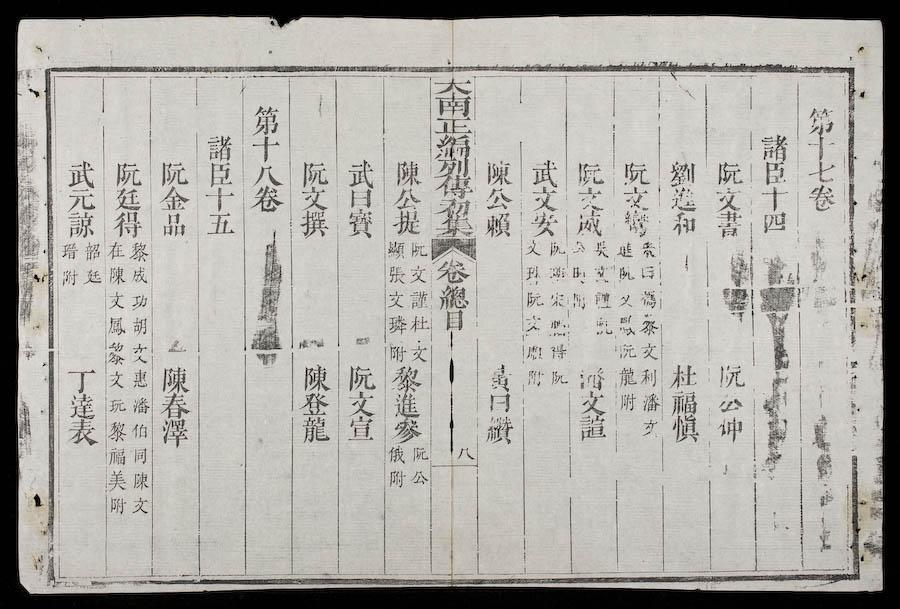c: (250, 102, 283, 136), (433, 174, 474, 199), (805, 105, 837, 136), (64, 157, 97, 187), (435, 258, 471, 285), (345, 157, 376, 188), (345, 208, 376, 239), (298, 415, 331, 444), (110, 210, 144, 238), (63, 210, 97, 238), (433, 94, 472, 118), (159, 364, 191, 393), (111, 159, 144, 187), (250, 186, 284, 213), (300, 362, 330, 392), (484, 415, 514, 445), (159, 418, 190, 447), (204, 132, 235, 161), (433, 135, 472, 158), (434, 198, 473, 221), (574, 159, 606, 187), (298, 210, 330, 238), (806, 184, 838, 212), (390, 365, 423, 392), (65, 418, 98, 445), (576, 415, 609, 442), (436, 284, 470, 310), (434, 215, 476, 236), (392, 158, 422, 187), (345, 363, 376, 391), (158, 158, 189, 186), (669, 415, 700, 443), (529, 158, 560, 186), (759, 133, 790, 161), (391, 209, 423, 236), (158, 393, 191, 419), (299, 159, 329, 187), (668, 362, 698, 390), (713, 159, 744, 186), (715, 362, 746, 389), (482, 212, 513, 239), (620, 159, 651, 186), (158, 186, 190, 212), (204, 211, 236, 237), (250, 135, 282, 161), (65, 366, 97, 392), (65, 392, 97, 418), (64, 188, 98, 212), (484, 158, 513, 186), (529, 211, 559, 238), (667, 159, 697, 186), (529, 186, 560, 212), (345, 391, 376, 417), (575, 186, 606, 212), (345, 416, 376, 442), (574, 211, 605, 237), (391, 418, 423, 443), (432, 76, 474, 95), (714, 212, 743, 239), (159, 212, 188, 239), (205, 161, 235, 187), (621, 210, 651, 236), (668, 187, 699, 212), (391, 393, 422, 418), (203, 187, 235, 211), (433, 158, 473, 177), (432, 118, 474, 136), (487, 362, 513, 391), (299, 186, 329, 211), (713, 187, 743, 212), (621, 186, 651, 211), (759, 186, 789, 211), (715, 416, 745, 441), (669, 391, 699, 416), (299, 392, 330, 416), (111, 187, 142, 211), (251, 163, 283, 186), (805, 136, 837, 159), (760, 161, 789, 186), (484, 187, 514, 211), (578, 366, 606, 391), (578, 391, 607, 415), (669, 212, 698, 236), (759, 211, 788, 235), (392, 187, 422, 210), (806, 160, 837, 182), (715, 395, 745, 416), (486, 392, 514, 414), (346, 188, 375, 209), (441, 310, 466, 332), (106, 340, 127, 366), (407, 289, 430, 311), (616, 365, 638, 388), (106, 469, 128, 492), (409, 339, 429, 364), (386, 313, 408, 335), (128, 240, 150, 262), (81, 240, 103, 262), (107, 419, 128, 442), (639, 314, 660, 337), (617, 313, 637, 337), (638, 288, 659, 310), (592, 289, 613, 311), (106, 314, 127, 336), (130, 340, 149, 364), (386, 239, 407, 260), (407, 264, 428, 285), (107, 445, 128, 466), (106, 240, 127, 261), (386, 467, 407, 488), (641, 392, 661, 414), (639, 366, 659, 388), (130, 367, 150, 389), (59, 266, 79, 288), (548, 316, 568, 338), (593, 315, 613, 337), (165, 337, 188, 356), (387, 264, 407, 285), (617, 392, 638, 412), (107, 265, 127, 286), (639, 340, 659, 361), (387, 342, 407, 363), (525, 368, 546, 388), (548, 368, 569, 388), (59, 240, 80, 260), (130, 314, 149, 336), (107, 368, 126, 390), (615, 342, 637, 361), (408, 314, 430, 333), (524, 263, 543, 285), (639, 418, 659, 438), (130, 395, 150, 415), (387, 445, 407, 465), (525, 343, 545, 363), (408, 240, 428, 260), (129, 291, 149, 311), (548, 342, 569, 361), (524, 313, 543, 334), (131, 470, 150, 491), (592, 263, 610, 285), (524, 290, 544, 309), (387, 290, 406, 310), (616, 240, 635, 260), (107, 290, 126, 310), (130, 265, 149, 285), (107, 395, 127, 414), (131, 495, 150, 515), (83, 266, 103, 285), (524, 239, 543, 258), (548, 290, 567, 309), (547, 264, 566, 283), (130, 421, 149, 440), (410, 444, 429, 463), (108, 495, 127, 514), (592, 239, 610, 259), (639, 240, 657, 260), (409, 468, 429, 486), (616, 264, 635, 282), (639, 263, 657, 282), (131, 445, 148, 465), (547, 240, 565, 258), (617, 291, 635, 309), (570, 291, 587, 310), (570, 264, 587, 283), (455, 445, 475, 461), (571, 239, 588, 256)
